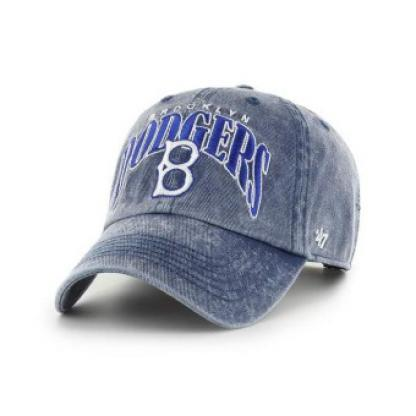cap: (44, 80, 367, 332)
